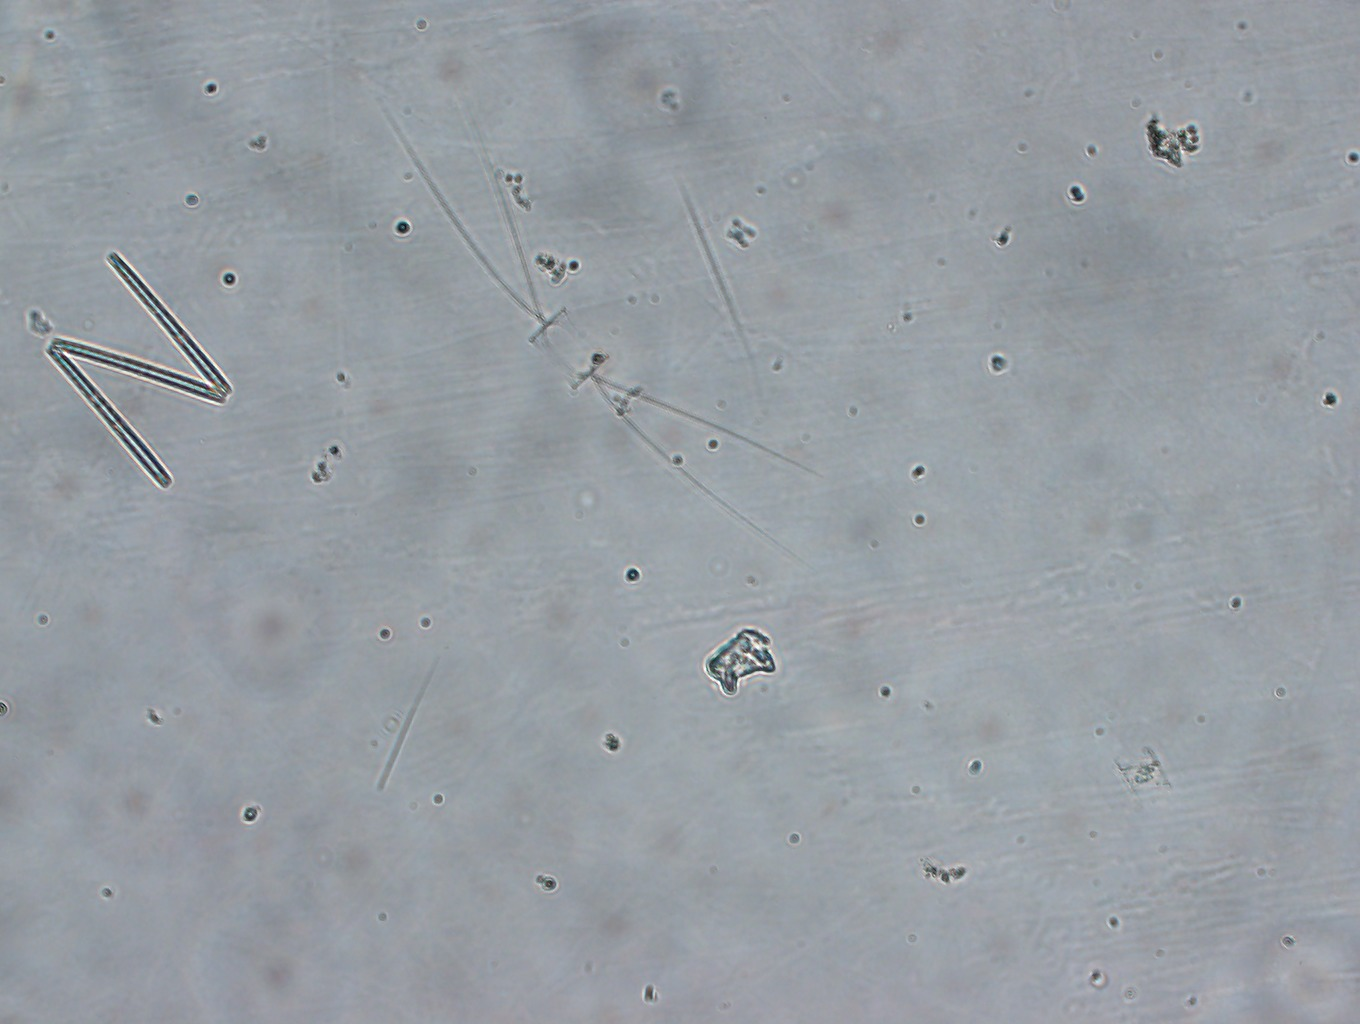chaetoceros: (374, 91, 830, 556)
thalassionema nitzschioides: (34, 246, 234, 499)
